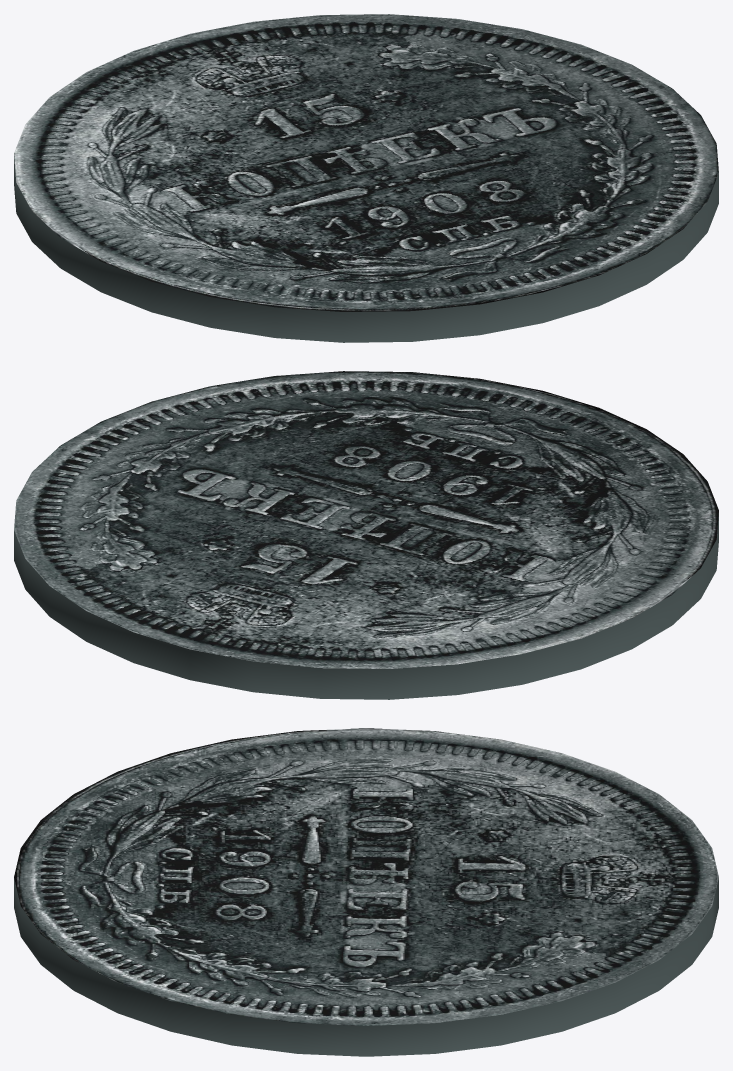
File: tanga15.gltf
The picture shows the model from 3 angles, top to bottom: view 1: azimuth 30°, elevation 25°; view 2: azimuth 150°, elevation 25°; view 3: azimuth 270°, elevation 25°; orthographic projection.
Parts seen in each view (by area): view 1: 15Kopekfinal_Cylinder.005; view 2: 15Kopekfinal_Cylinder.005; view 3: 15Kopekfinal_Cylinder.005.
Part boxes in pixels (<box>): 15Kopekfinal_Cylinder.005: <box>14,14,718,342</box>; 15Kopekfinal_Cylinder.005: <box>14,371,718,699</box>; 15Kopekfinal_Cylinder.005: <box>14,728,718,1056</box>.
Bounding box in the file's own units: 0.05 × 0.0024 × 0.05.
1 material, 1 textured.
